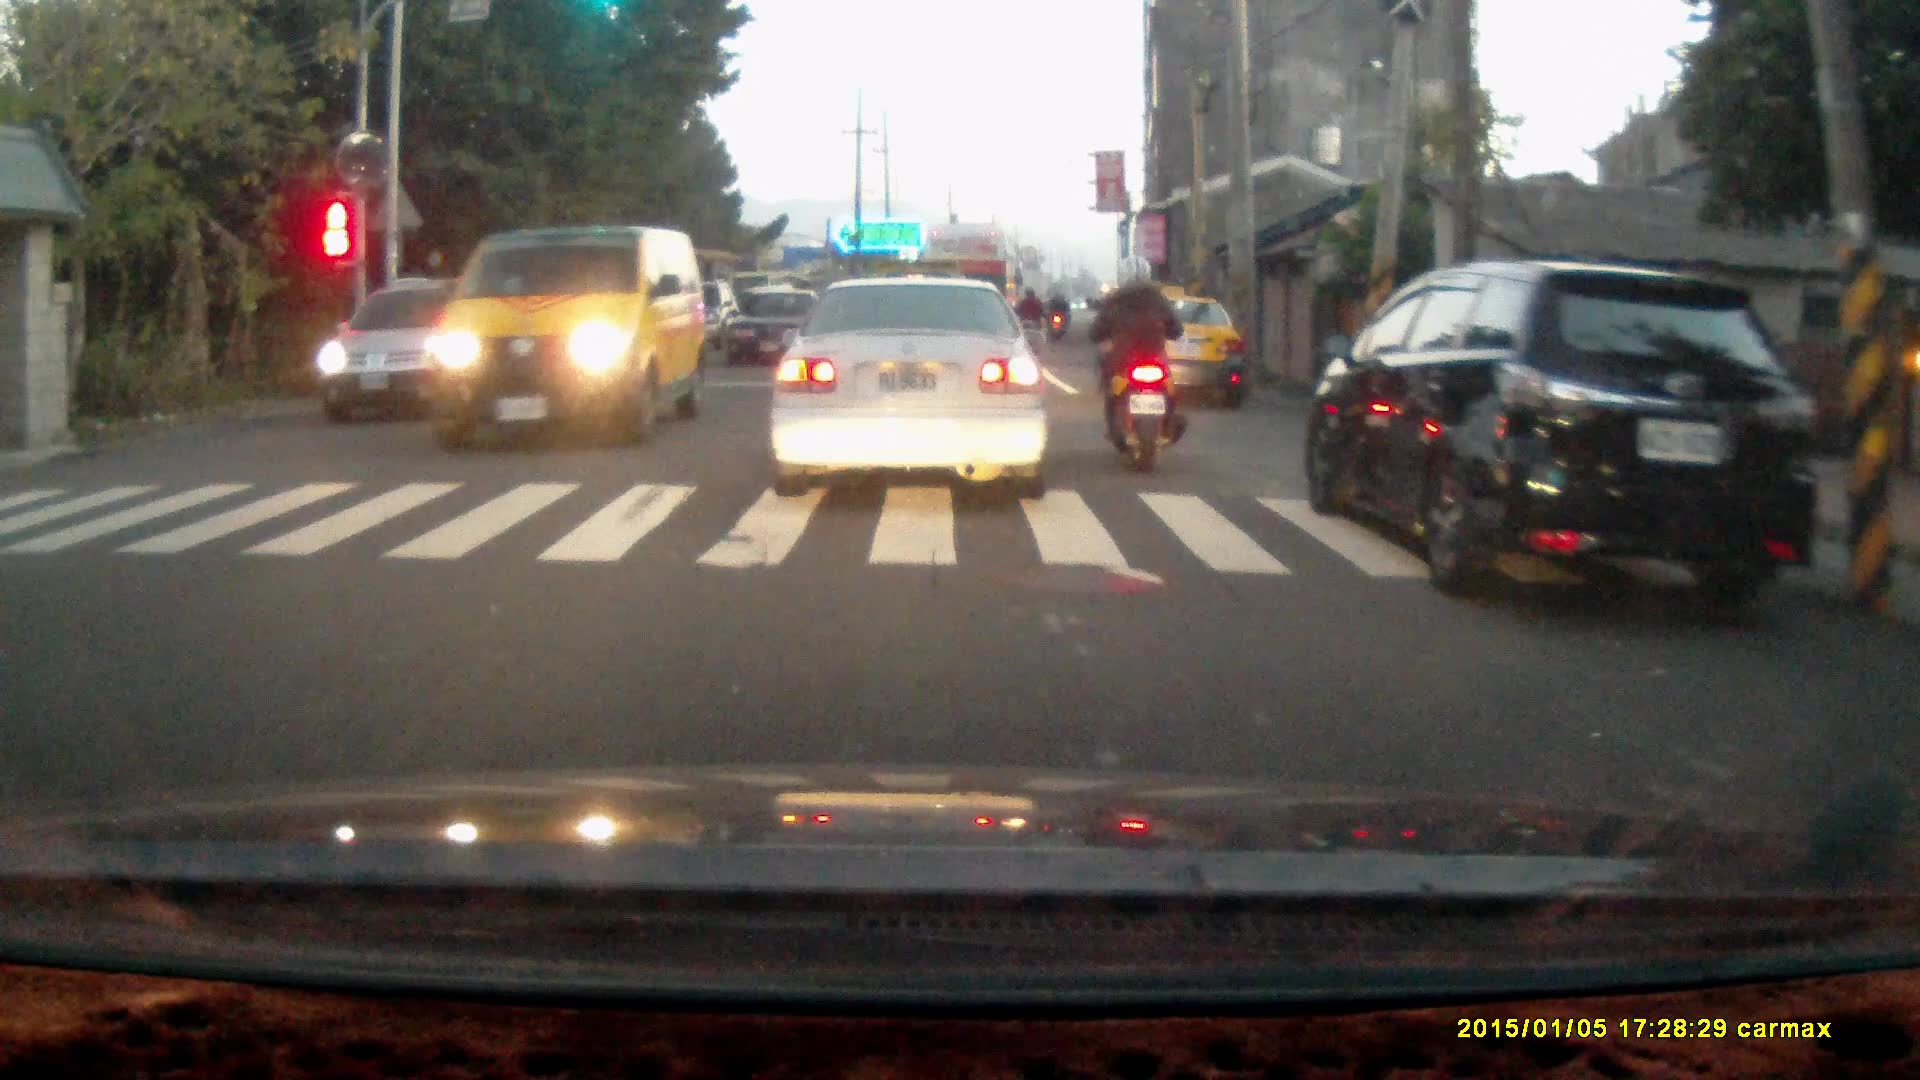rider: (1082, 249, 1182, 471)
vehicle: (1307, 259, 1829, 608), (769, 270, 1053, 497), (429, 224, 703, 451), (311, 276, 507, 416), (1101, 290, 1248, 414), (915, 216, 1018, 354), (725, 284, 821, 373)
